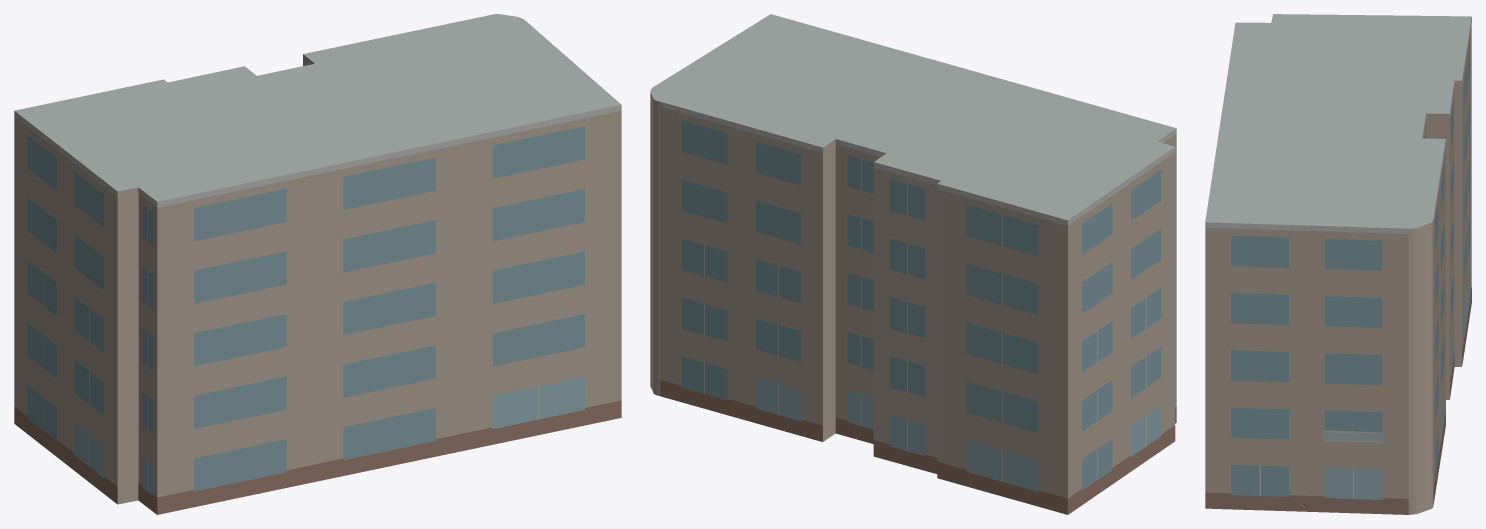
File: survey-upis-33029888.glb
The picture shows the model from 3 angles, left to right: view 1: azimuth 30°, elevation 25°; view 2: azimuth 150°, elevation 25°; view 3: azimuth 270°, elevation 25°; orthographic projection. The views are drawn at different scales.
Parts seen in each view (by area): view 1: survey-upis-33029888.tmp; view 2: survey-upis-33029888.tmp; view 3: survey-upis-33029888.tmp.
Part boxes in pixels (bbox=[...]): survey-upis-33029888.tmp: bbox=[14, 14, 621, 514]; survey-upis-33029888.tmp: bbox=[650, 14, 1176, 514]; survey-upis-33029888.tmp: bbox=[1205, 14, 1471, 514].
Bounding box in the file's own units: 20.92 × 13 × 10.99.
